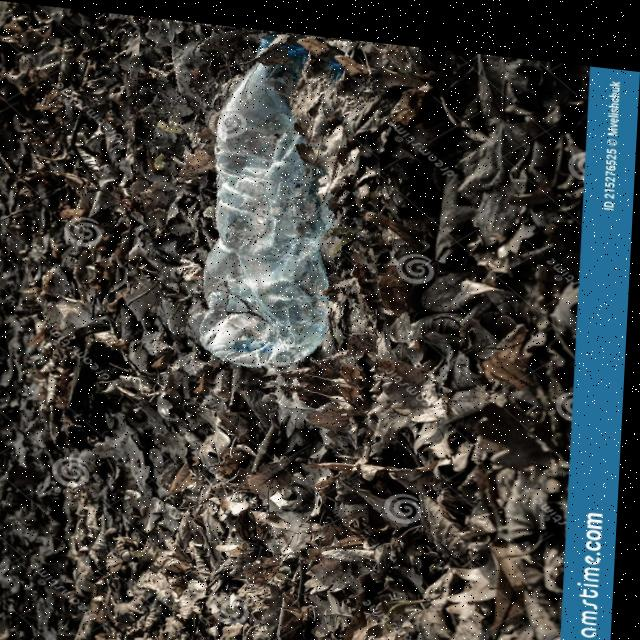plasticbottle: (126, 14, 393, 398)
